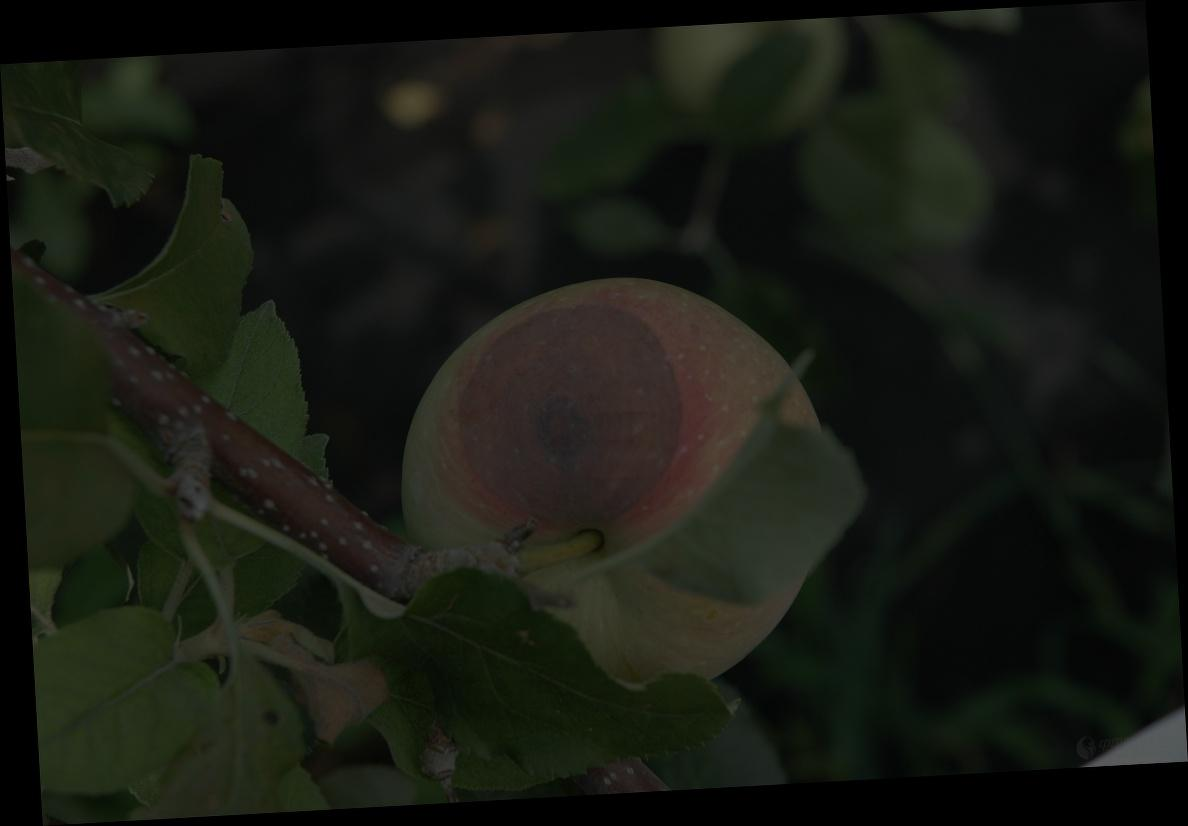rotten apple: (403, 277, 838, 691)
